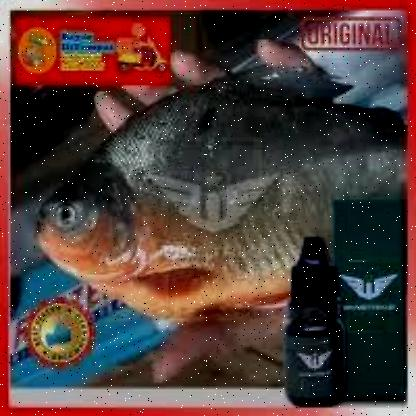ikan-pacu: (31, 79, 406, 309)
